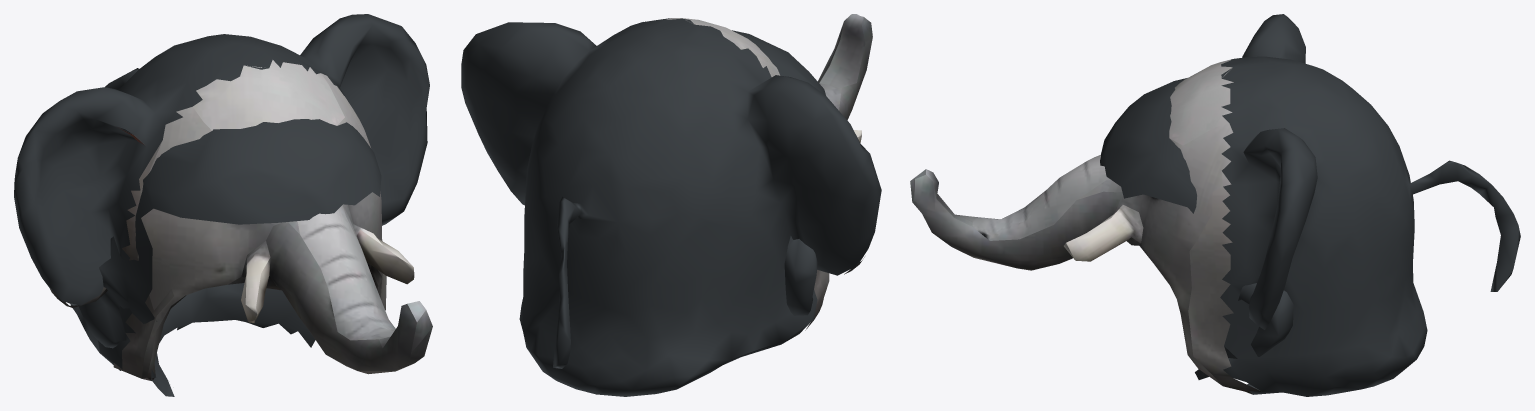
The model's file is elephant.glb.
3 views of the same model, side by side, from view 1: azimuth 30°, elevation 25°; view 2: azimuth 150°, elevation 25°; view 3: azimuth 270°, elevation 25° (orthographic). The views are drawn at different scales.
Visible parts, largest first — view 1: geometry_0, HoodAnatomicalLining; view 2: geometry_0, HoodAnatomicalLining; view 3: geometry_0, HoodAnatomicalLining.
Part boxes in pixels (x1,y1,x2,y2): geometry_0: [14, 14, 432, 380]; HoodAnatomicalLining: [78, 119, 381, 396]; geometry_0: [461, 14, 881, 396]; HoodAnatomicalLining: [732, 30, 825, 315]; geometry_0: [910, 14, 1520, 396]; HoodAnatomicalLining: [1100, 78, 1293, 379].
Size of the model in its own units: 0.6523 by 0.4629 by 0.9047.
Materials: 2 (1 with a texture image).
